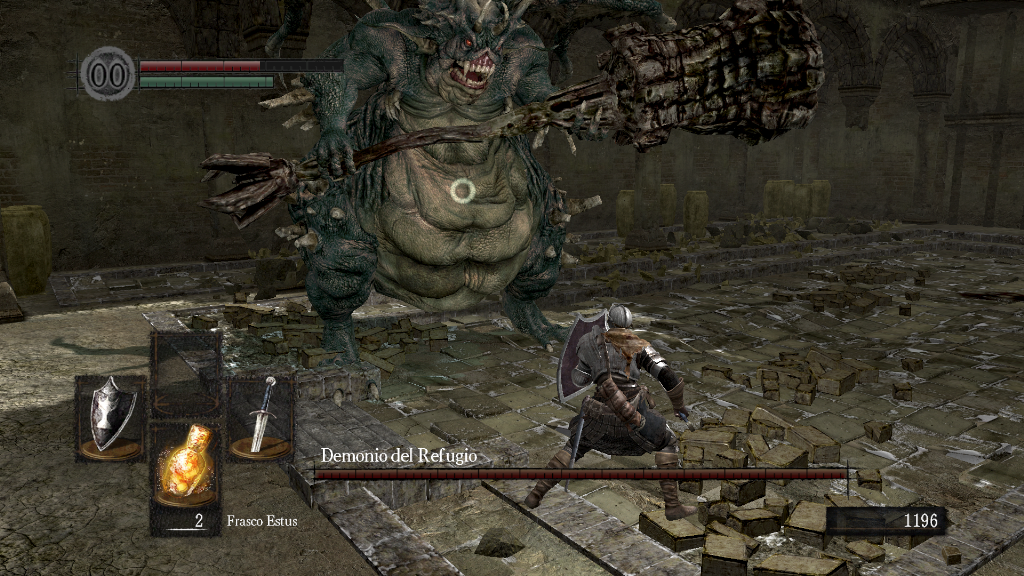asylumDemon: (200, 1, 828, 403)
bossHP: (314, 469, 847, 479)
health: (138, 58, 343, 71)
humanity: (80, 45, 136, 102)
player: (525, 304, 700, 519)
souls: (825, 506, 945, 536)
stamina: (138, 74, 274, 88)
